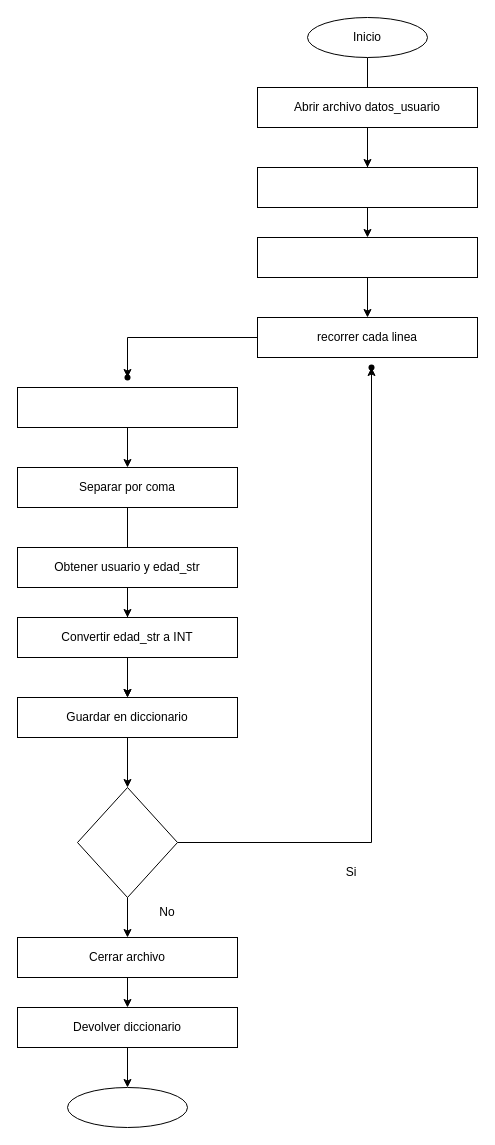
Image size: 495x1145. Some labels were removed from this diagram. The shapes that lost their labels are listed below. From the top down, each one's centre as x and y in pixels, then its label:
the point at 367,187: Leer todas las lineas
the point at 367,257: Iniciar diccionario vacio
the point at 127,407: Eliminar espacios y saltos de linea
the point at 127,842: mas lineas?
the point at 127,1107: FIN
